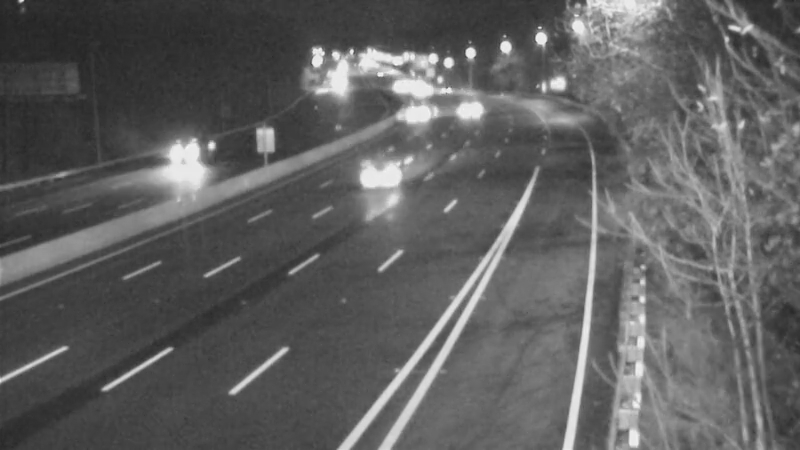vehicle: (337, 138, 417, 218), (140, 115, 220, 195), (420, 67, 470, 117), (440, 85, 490, 135), (383, 90, 433, 140)
